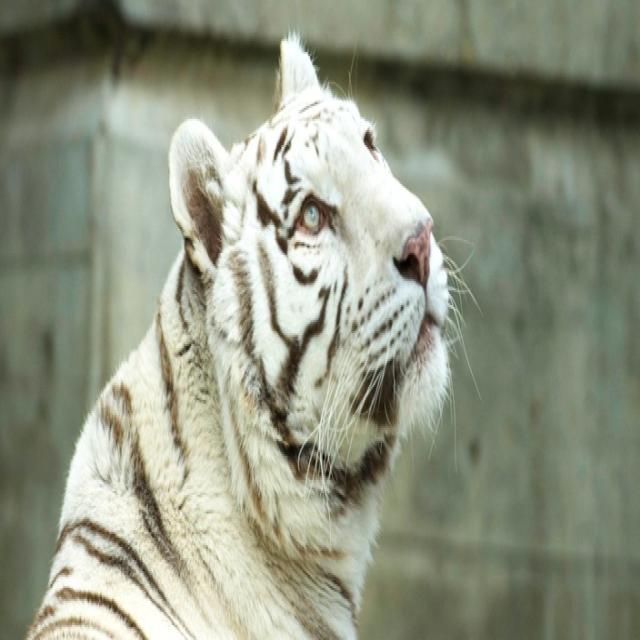Carnivorous: (23, 32, 455, 640)
